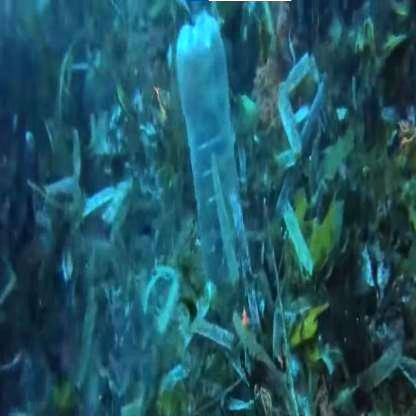pbottle: (175, 16, 254, 324)
